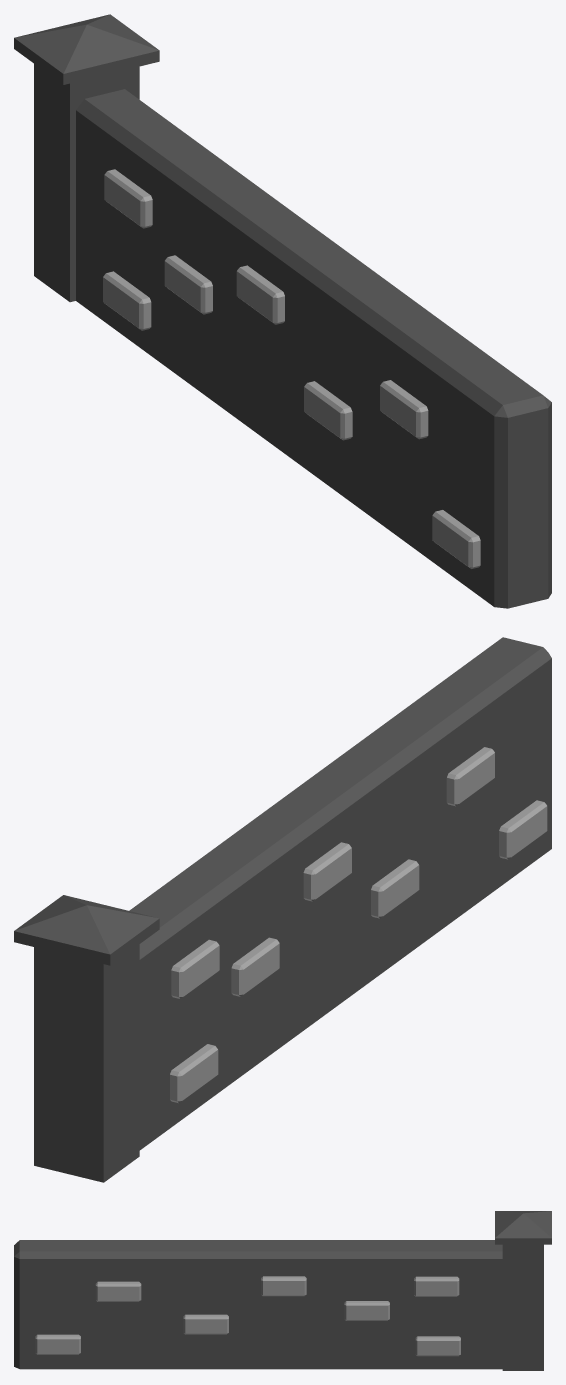
Rendered from SM_stoneFence.fbx.
3 renders of one model, top to bottom at view 1: azimuth 30°, elevation 25°; view 2: azimuth 150°, elevation 25°; view 3: azimuth 270°, elevation 25°, orthographic. The views are drawn at different scales.
Parts seen in each view (by area): view 1: SM_stoneFence; view 2: SM_stoneFence; view 3: SM_stoneFence.
Part boxes in pixels (x1=…): SM_stoneFence: x1=14, y1=14, x2=551, y2=608; SM_stoneFence: x1=14, y1=637, x2=551, y2=1182; SM_stoneFence: x1=14, y1=1211, x2=551, y2=1370.
Size of the model in its own units: 60.53 by 154 by 507.
